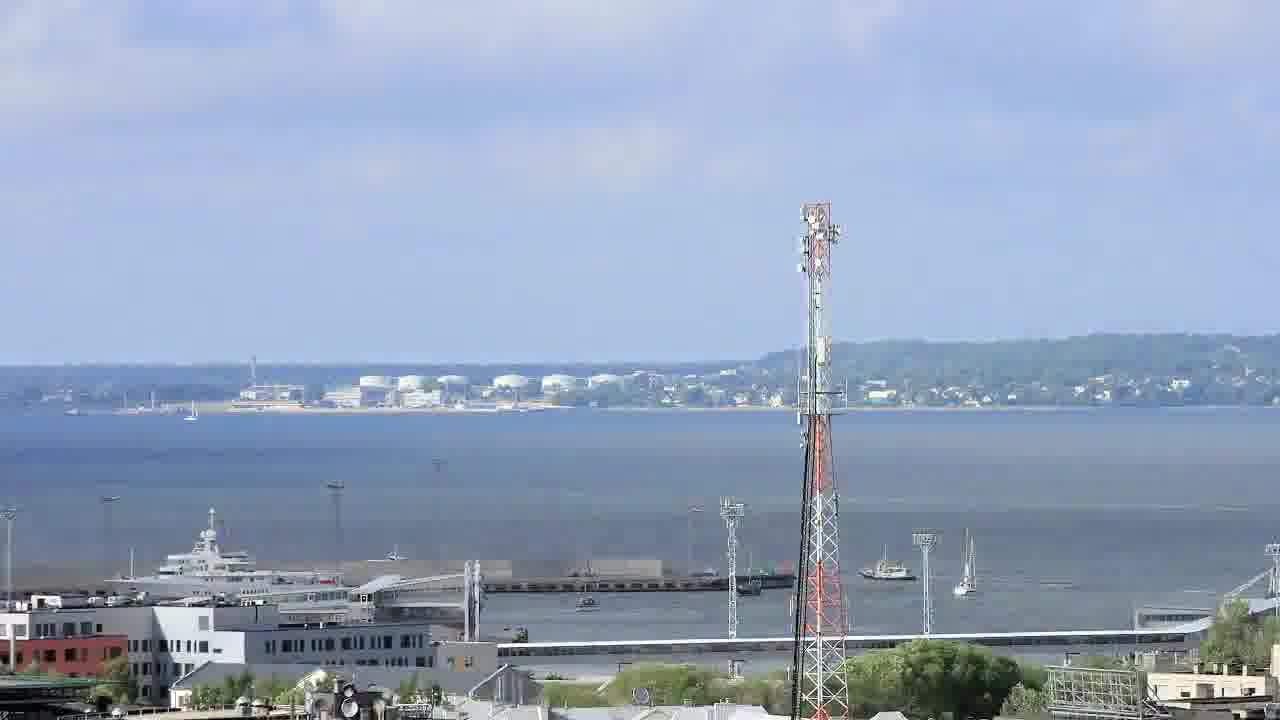type-0: (943, 545, 988, 607), (848, 548, 913, 588), (562, 584, 619, 620), (723, 564, 768, 609)
type-3: (92, 513, 370, 607)
